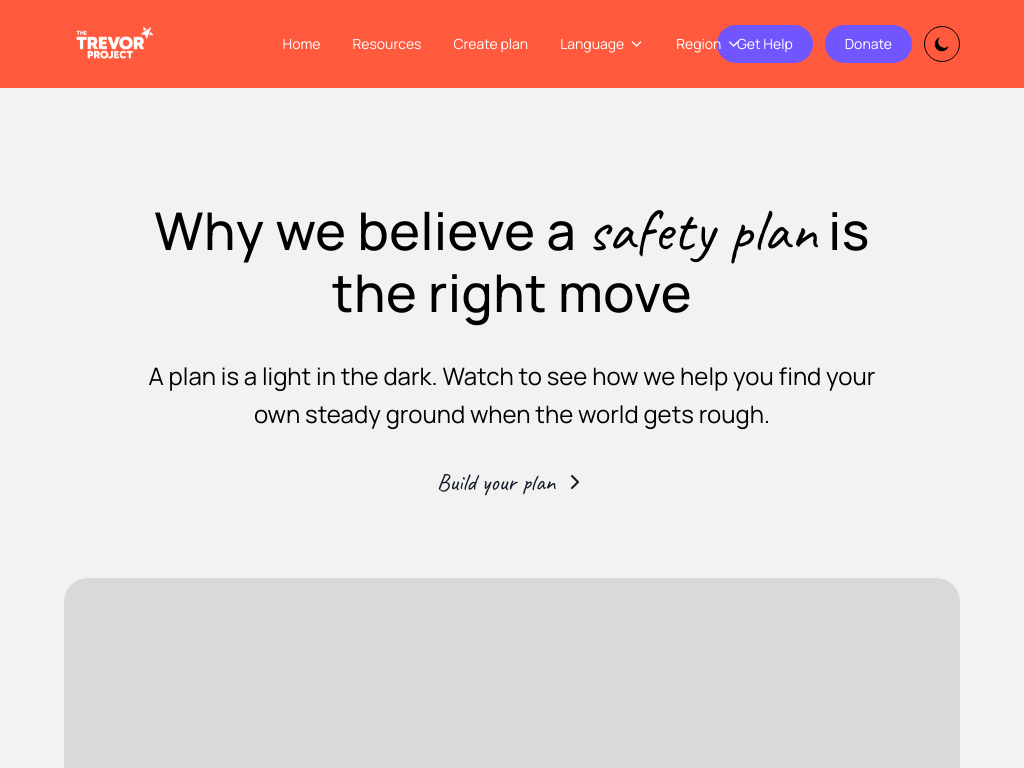
Test: Region selector (desktop navbar) › opening one dropdown does not open the other
Click the button "Region": (709, 44) 676,33 -> 741,55
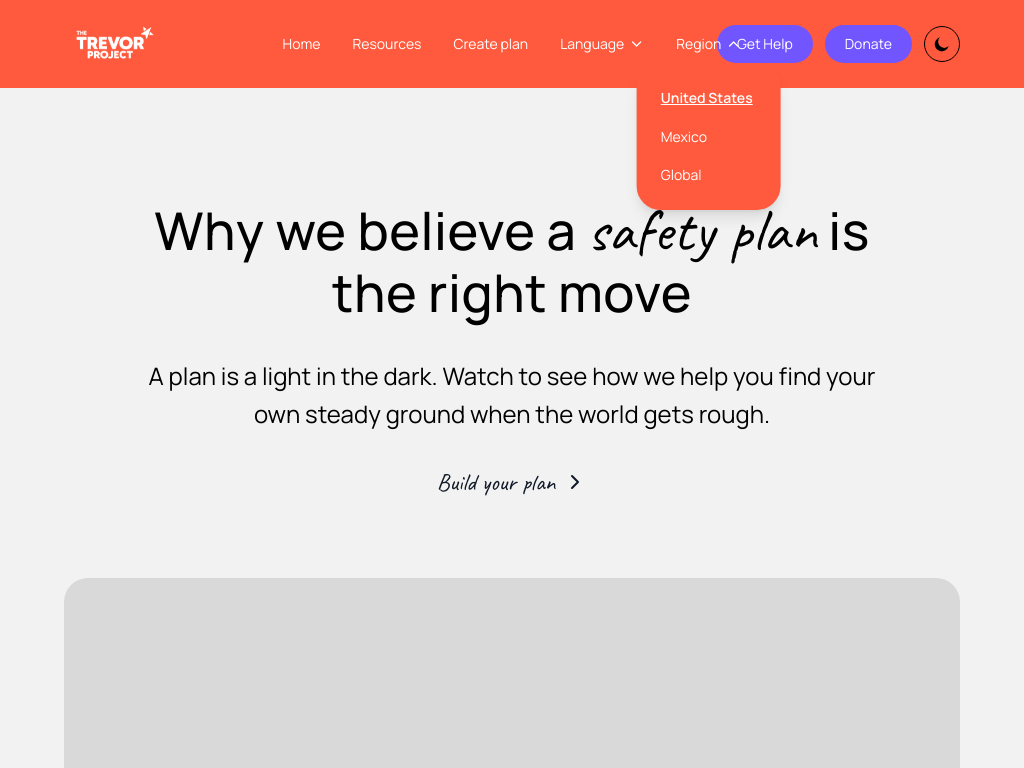
Expected: the button "Region" is expanded, 676,33 -> 741,55
